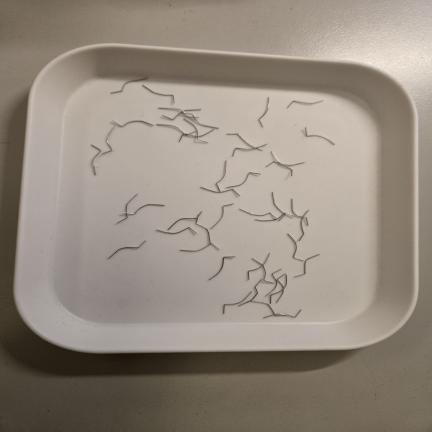probe: (101, 120, 154, 155), (107, 240, 146, 259), (210, 203, 234, 230), (223, 291, 251, 314), (111, 77, 148, 94), (209, 256, 235, 280), (142, 85, 175, 103), (226, 172, 260, 188), (305, 127, 335, 145), (239, 209, 276, 219), (258, 97, 269, 127), (91, 145, 101, 175), (287, 100, 323, 108), (156, 227, 196, 234)
